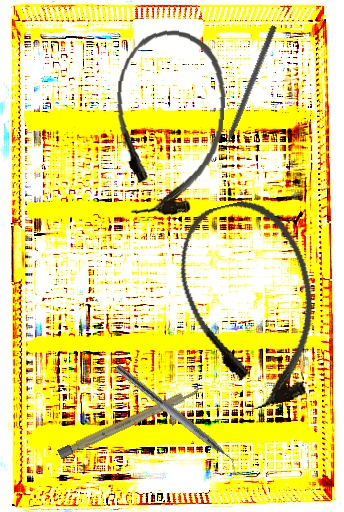Cannula: (166, 189, 337, 420), (107, 24, 231, 222)
Chopper: (107, 364, 247, 478)
Pusher: (215, 24, 278, 162)
Scalpel Handle: (57, 384, 201, 460)
